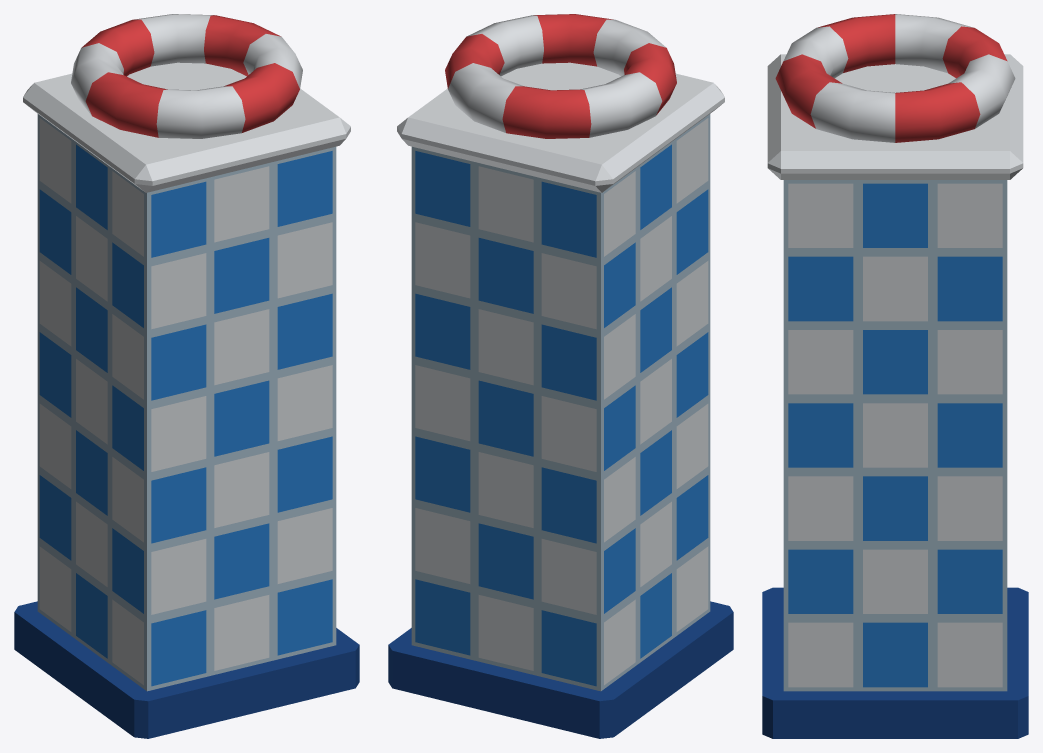
File: aqua-post.glb
The picture shows the model from 3 angles, left to right: view 1: azimuth 30°, elevation 25°; view 2: azimuth 150°, elevation 25°; view 3: azimuth 270°, elevation 25°; orthographic projection. The views are drawn at different scales.
Parts seen in each view (by area): view 1: aqua-post; view 2: aqua-post; view 3: aqua-post.
Boxes of the visible parts, x1,y1,x2,y2 form: aqua-post: [14, 14, 359, 738]; aqua-post: [388, 14, 733, 738]; aqua-post: [762, 14, 1028, 738].
Bounding box in the file's own units: 0.5 × 1.3 × 0.5.
